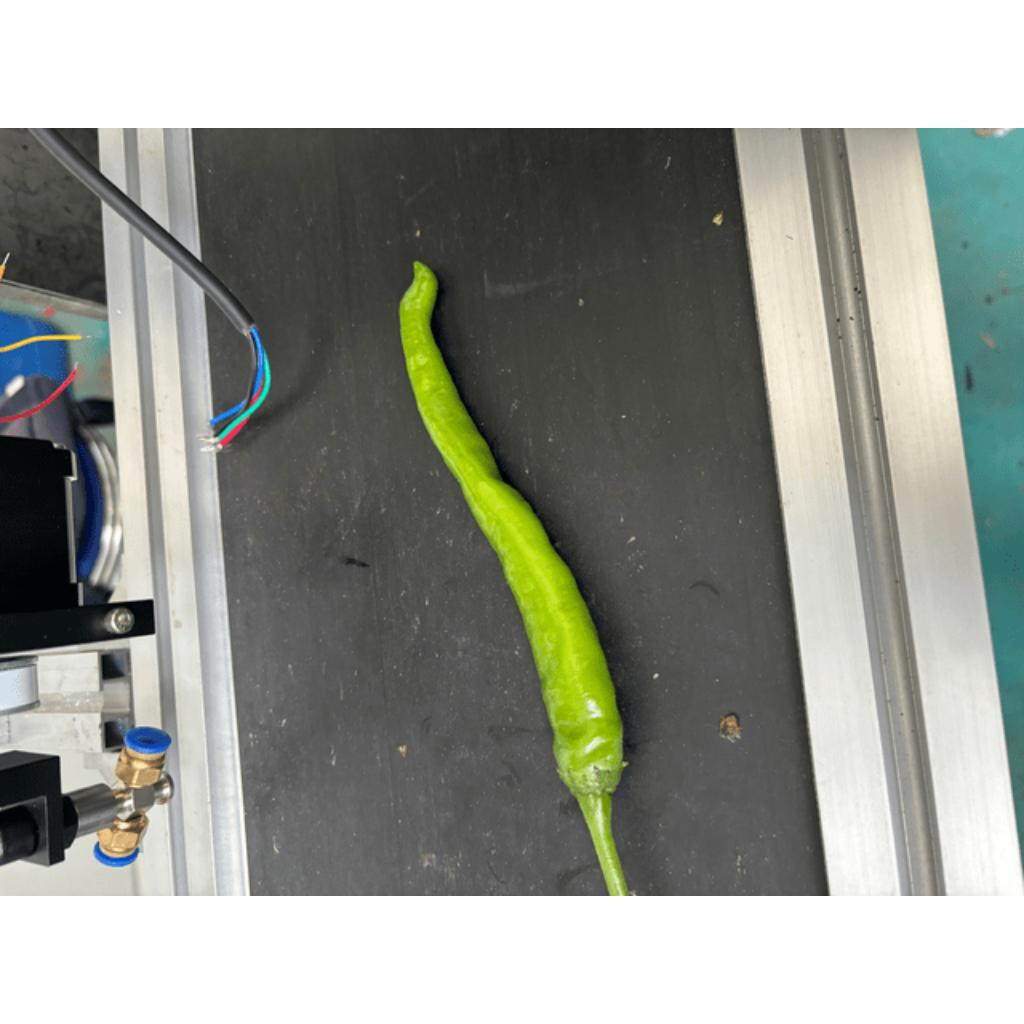chili: (396, 254, 628, 806)
